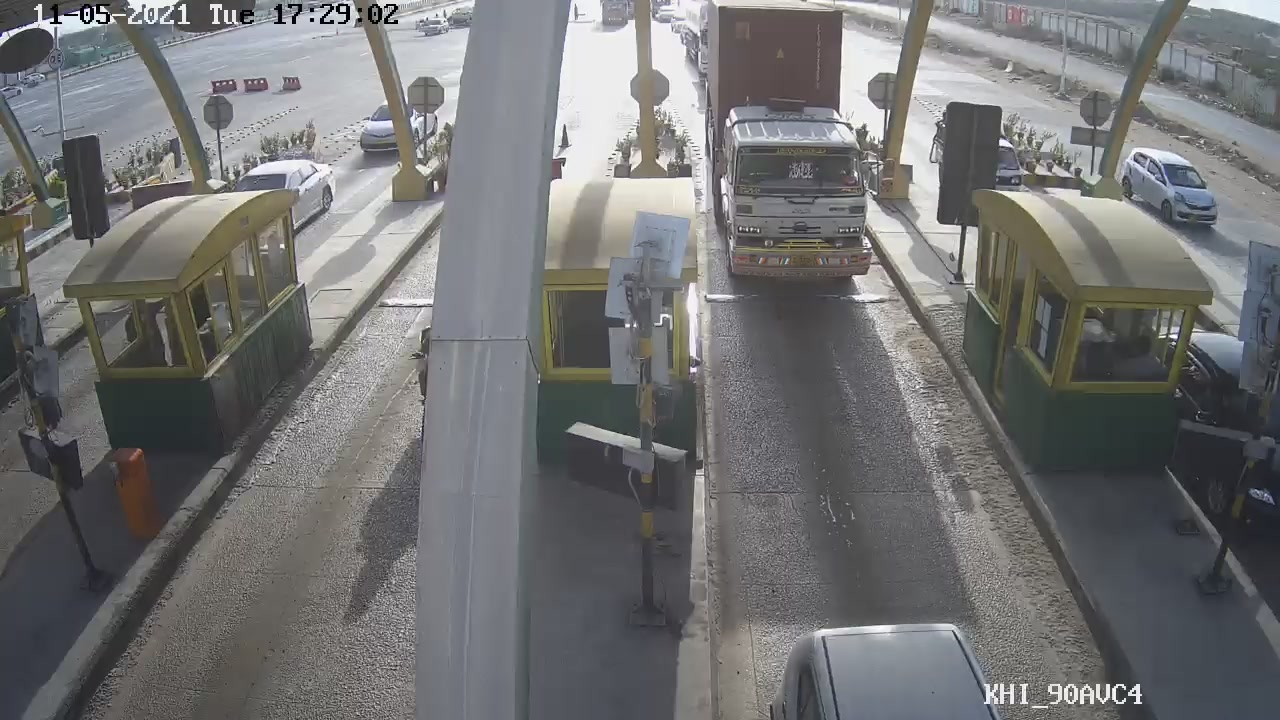F6: (699, 33, 906, 290)
